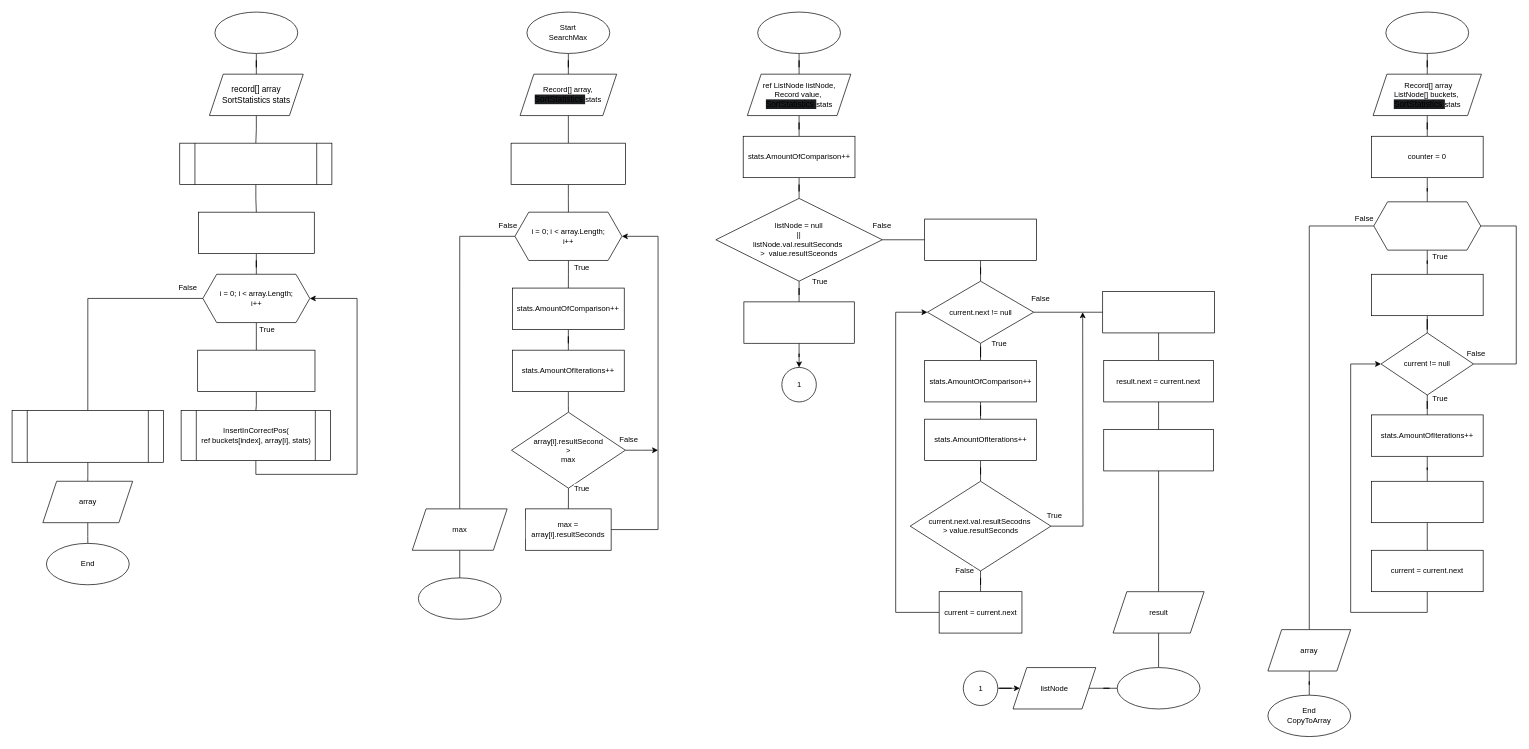
This 1529x749 diagram has some shape labels left out. Here are the shapes that lost their labels. From the top down, the centre of each, then its label:
At point (256, 32): "Start".
At point (798, 32): "Start InsertInCorrectPos".
At point (1427, 32): "Start CopyToArray".
At point (255, 163): "bsize = [(SearchMax(array, stats) / 5)] + 1".
At point (568, 163): "max = array[0].resultSeconds".
At point (256, 232): "ListNode[] buckets = ListNode[bsize]".
At point (980, 239): "ListNode current = listNode".
At point (1427, 225): "i = 0; i < buckets.Length; i++".
At point (1158, 312): "ListNode resul = new ListNode(value)".
At point (1427, 295): "ListNode current = buckets[i]".
At point (798, 322): "listNode = new ListNode(value, listNode)".
At point (256, 370): "index = [array[i].resultSeconds / 5]".
At point (87, 436): "CopyToArray(array, buckets, stats)".
At point (1158, 450): "current.next = result".
At point (1427, 502): "array[counter++] = current.val".
At point (459, 598): "End SearchMax".
At point (1158, 688): "End InsertInCorrectPos".
